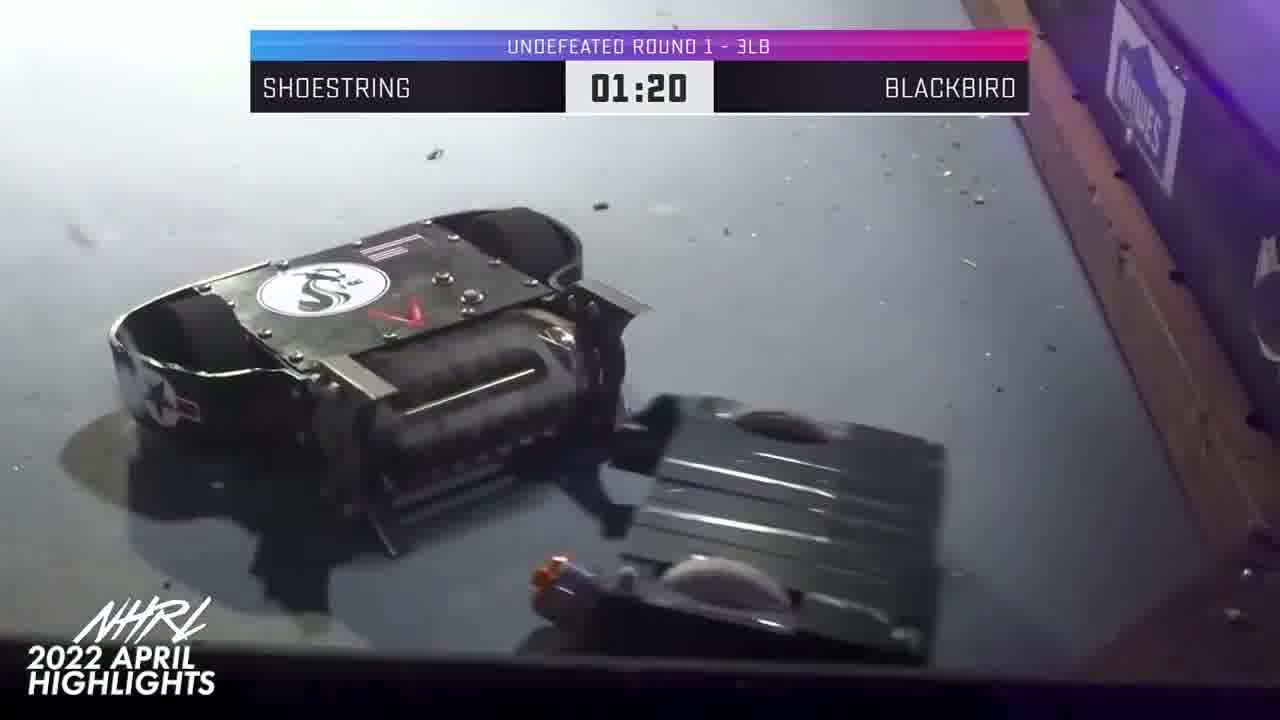combatbot: (107, 207, 656, 562), (528, 405, 940, 667)
